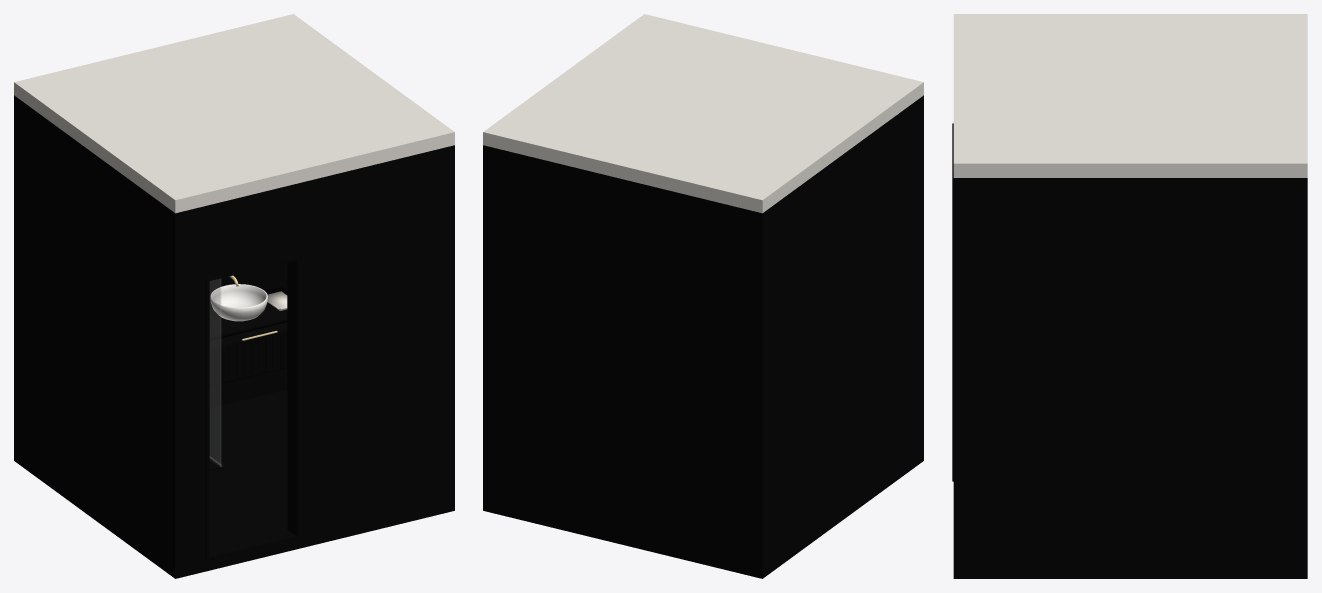
Rendered from 05-bathroom.glb.
The picture shows the model from 3 angles, left to right: view 1: azimuth 30°, elevation 25°; view 2: azimuth 150°, elevation 25°; view 3: azimuth 270°, elevation 25°; orthographic projection. The views are drawn at different scales.
Visible parts, largest first — view 1: Wall_South_Right, Ceiling_Main, Wall_West_South, Floor_Main, Wall_South_Left, Wall_South_Header, Wall_North_Tile, Wall_West_North, Wall_West_NicheAbove, Wall_West_NicheBelow, Door_Jamb_Right, Vanity_Drawer_Oak_Panel (+6 smaller); view 2: Wall_North_Tile, Ceiling_Main, Wall_West_South, Floor_Main, Wall_West_North, Wall_West_NicheAbove, Wall_West_NicheBelow, Wall_South_Left, Wall_West_NicheBack; view 3: Wall_East_Tile, Ceiling_Main, Wall_North_Tile, Wall_South_Right, Floor_Main, Door_Jamb_Right.
Part boxes in pixels (<box>): Wall_South_Right: <box>300,145,454,535</box>; Ceiling_Main: <box>14,14,454,213</box>; Wall_West_South: <box>71,138,166,558</box>; Floor_Main: <box>14,389,454,578</box>; Wall_South_Left: <box>166,206,205,565</box>; Wall_South_Header: <box>205,183,300,277</box>; Wall_North_Tile: <box>14,95,287,453</box>; Wall_West_North: <box>22,102,38,465</box>; Wall_West_NicheAbove: <box>38,113,71,293</box>; Wall_West_NicheBelow: <box>38,316,71,489</box>; Door_Jamb_Right: <box>287,255,300,536</box>; Vanity_Drawer_Oak_Panel: <box>209,330,287,385</box>; Wall_North_Tile: <box>483,145,771,565</box>; Ceiling_Main: <box>483,14,923,213</box>; Wall_West_South: <box>820,102,915,523</box>; Floor_Main: <box>483,448,923,578</box>; Wall_West_North: <box>771,196,786,558</box>; Wall_West_NicheAbove: <box>787,171,820,351</box>; Wall_West_NicheBelow: <box>787,374,820,547</box>; Wall_South_Left: <box>915,95,923,453</box>; Wall_West_NicheBack: <box>787,328,820,397</box>; Wall_East_Tile: <box>972,178,1288,564</box>; Ceiling_Main: <box>953,14,1307,177</box>; Wall_North_Tile: <box>1288,178,1307,564</box>; Wall_South_Right: <box>953,178,972,564</box>; Floor_Main: <box>953,564,1307,578</box>; Door_Jamb_Right: <box>952,172,953,481</box>.
Bounding box in the file's own units: 2.24 × 2.9 × 2.25.
14 materials, 4 textured.
